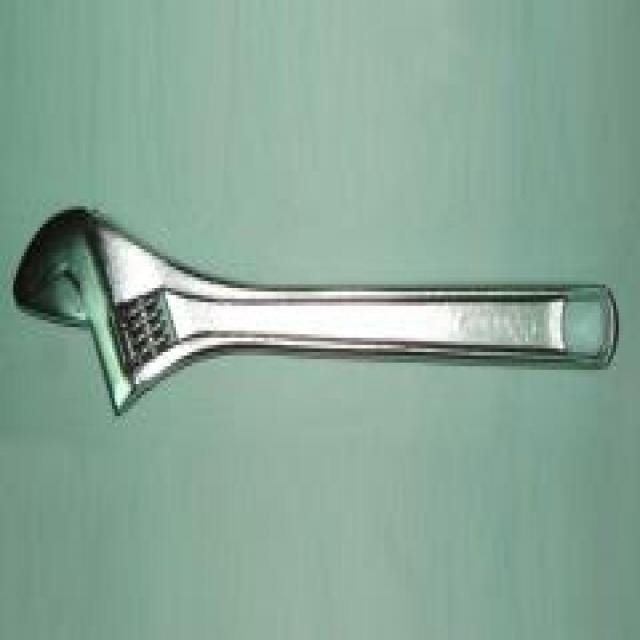wrench: (0, 200, 630, 422)
